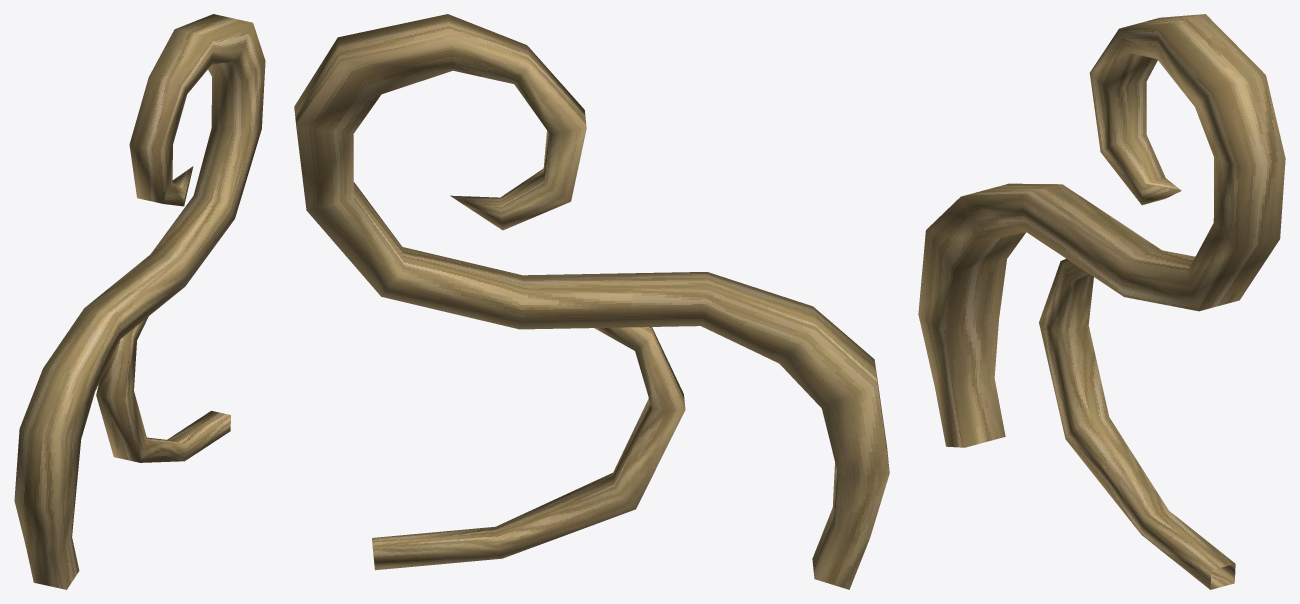
File: EKH_BARRELROOM_PS_JA1_LOFT05.fbx
The picture shows the model from 3 angles, left to right: view 1: azimuth 30°, elevation 25°; view 2: azimuth 150°, elevation 25°; view 3: azimuth 270°, elevation 25°; orthographic projection. The views are drawn at different scales.
Parts seen in each view (by area): view 1: EKH_BARRELROOM_PS_JA1_LOFT05; view 2: EKH_BARRELROOM_PS_JA1_LOFT05; view 3: EKH_BARRELROOM_PS_JA1_LOFT05.
Boxes of the visible parts, x1=… form: EKH_BARRELROOM_PS_JA1_LOFT05: x1=14, y1=14, x2=265, y2=589; EKH_BARRELROOM_PS_JA1_LOFT05: x1=294, y1=14, x2=889, y2=589; EKH_BARRELROOM_PS_JA1_LOFT05: x1=918, y1=14, x2=1285, y2=589.
Size of the model in its own units: 9773 by 11415 by 6736.
1 material, 1 textured.
